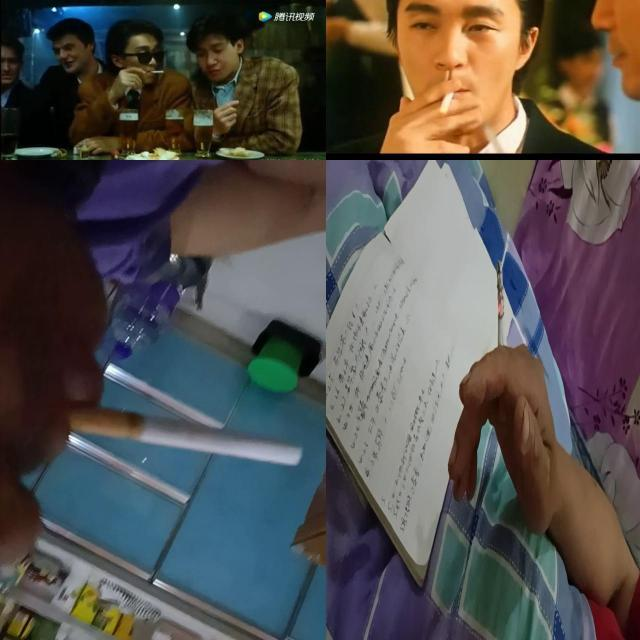cigarette: (69, 406, 303, 466), (497, 260, 505, 422), (440, 90, 454, 114), (148, 65, 166, 75)
